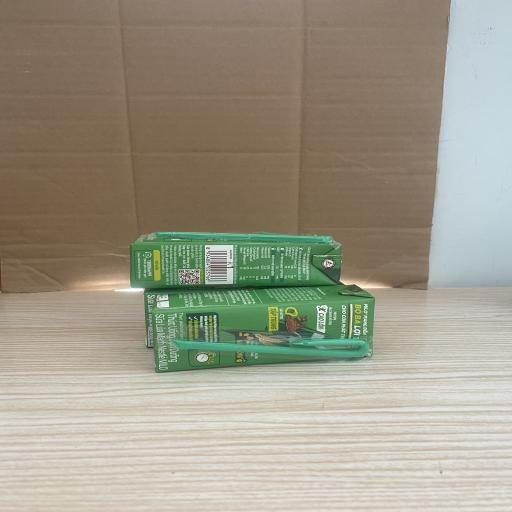milo: (144, 283, 376, 373), (128, 230, 346, 288), (144, 284, 155, 348)
